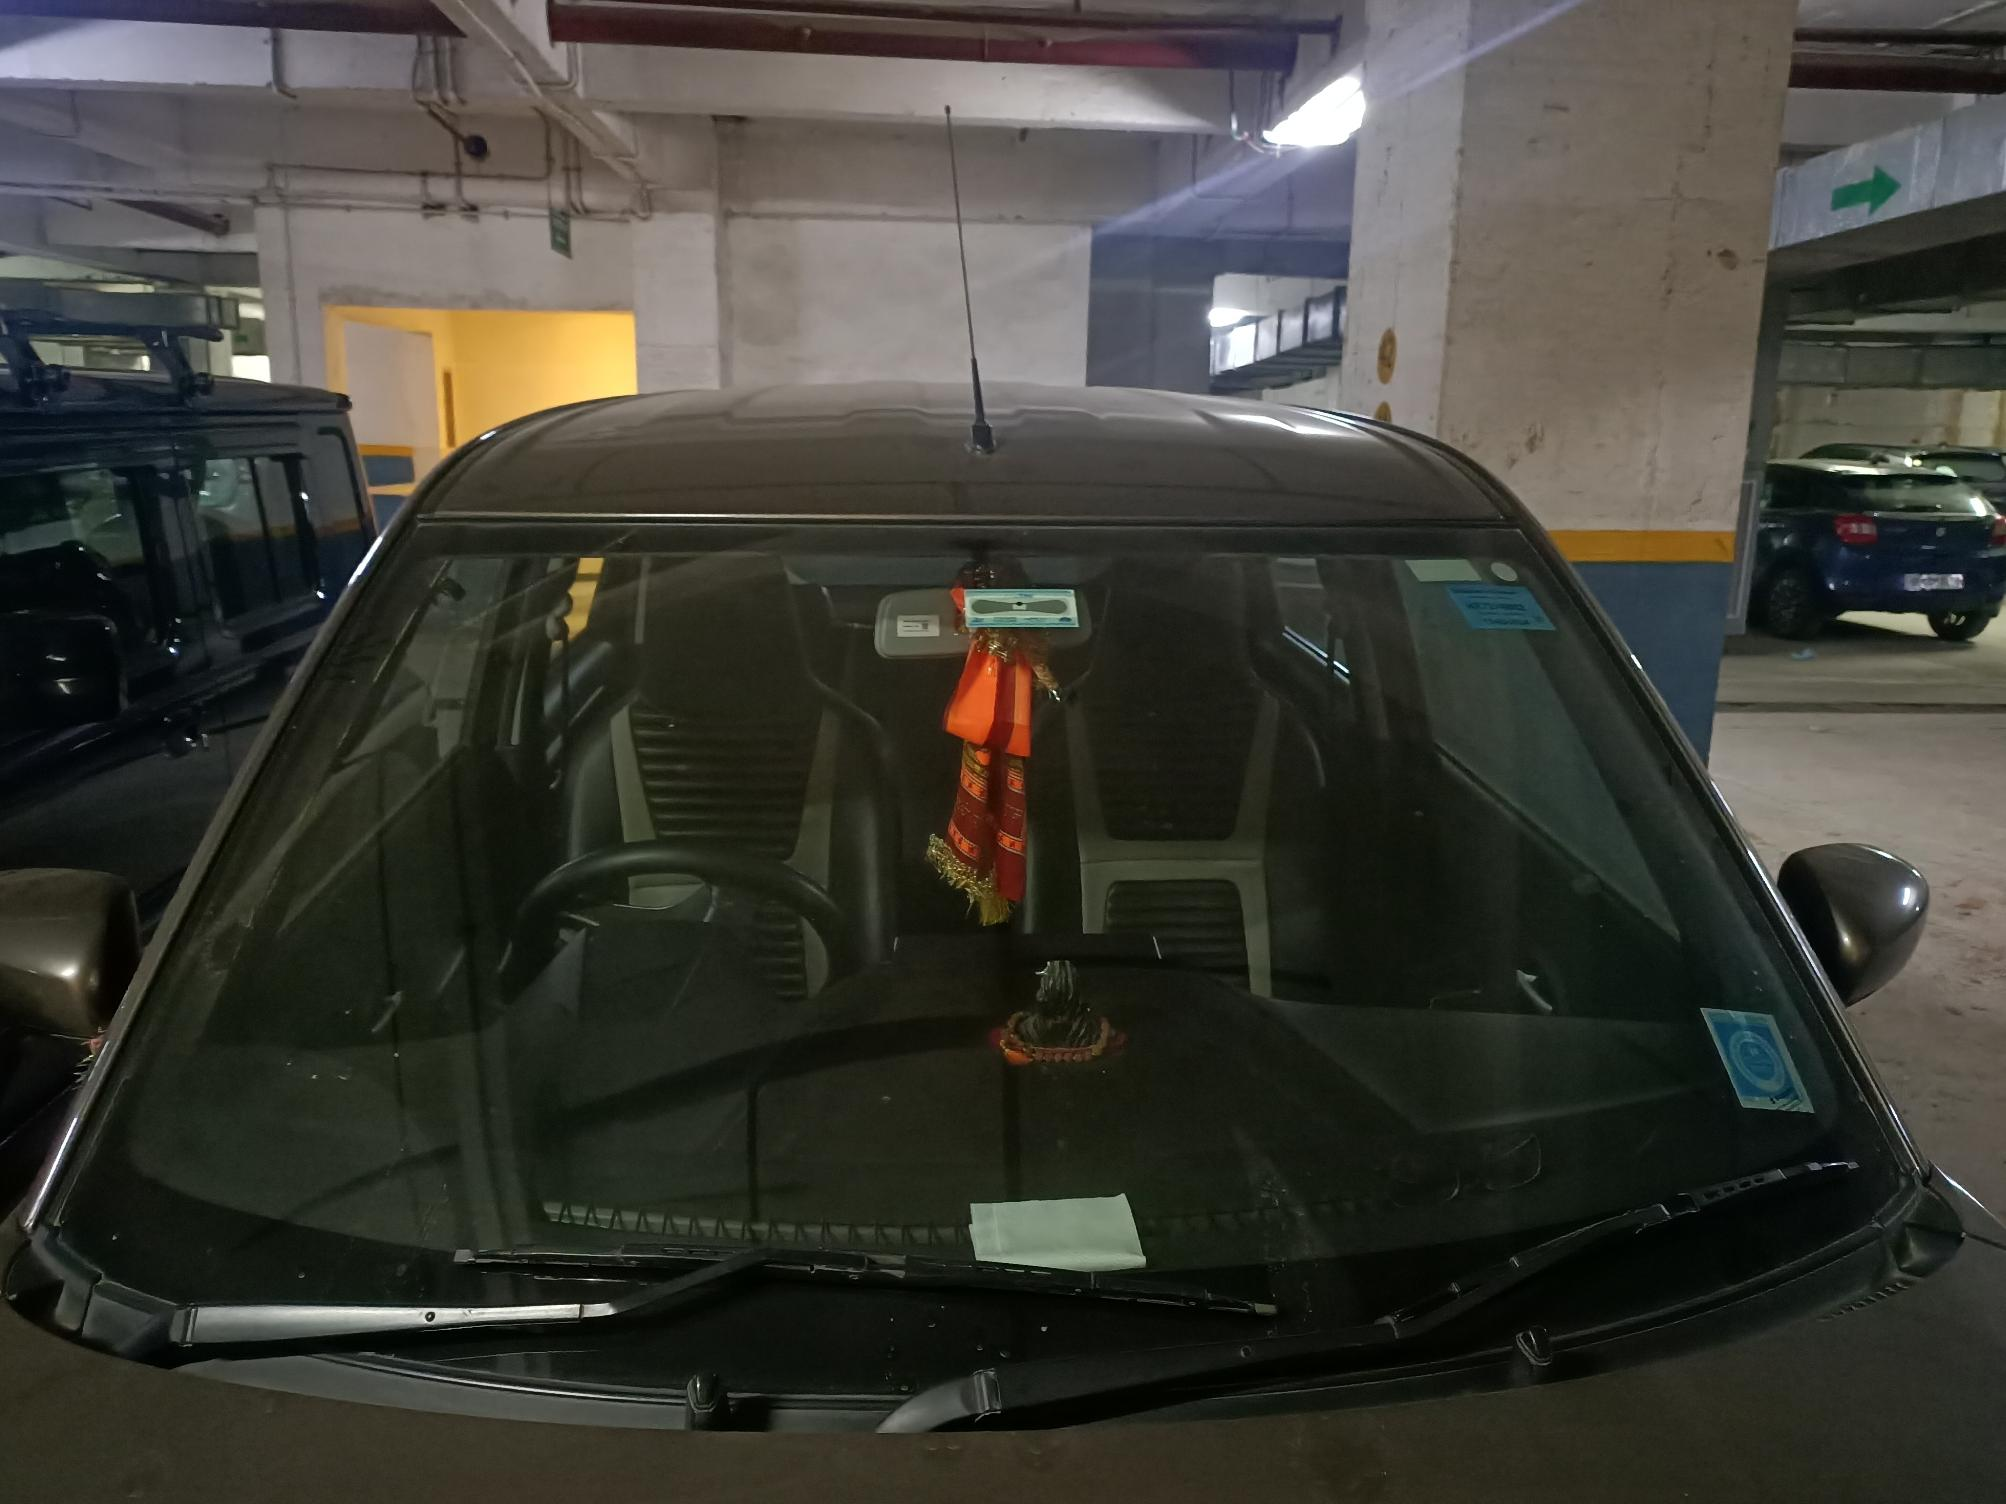FastTag: (935, 562, 1126, 643)
not a FastTag: (1692, 970, 1802, 1114), (1456, 591, 1561, 648), (1396, 548, 1518, 586)
